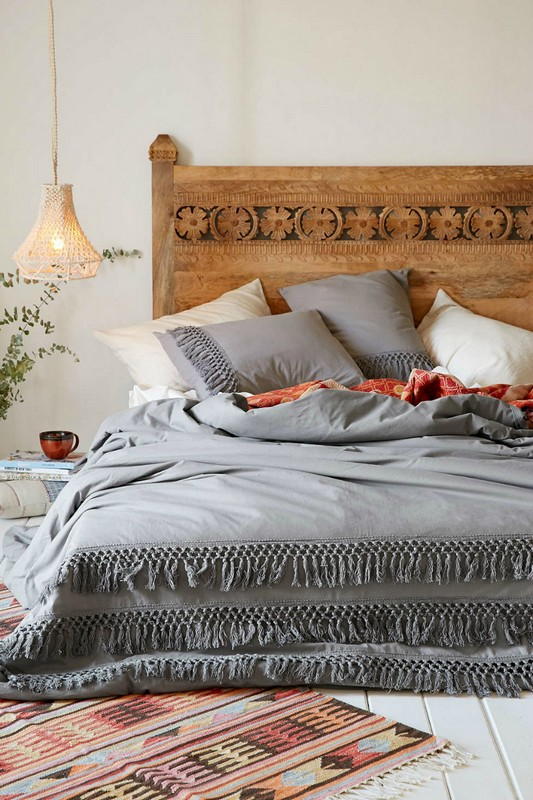bed: (98, 134, 533, 710)
lamp: (13, 51, 101, 289)
